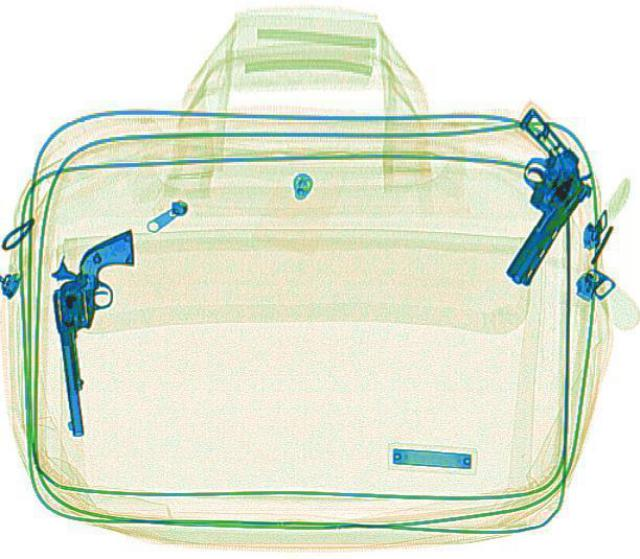Gun: (444, 107, 618, 288), (42, 226, 156, 435)
